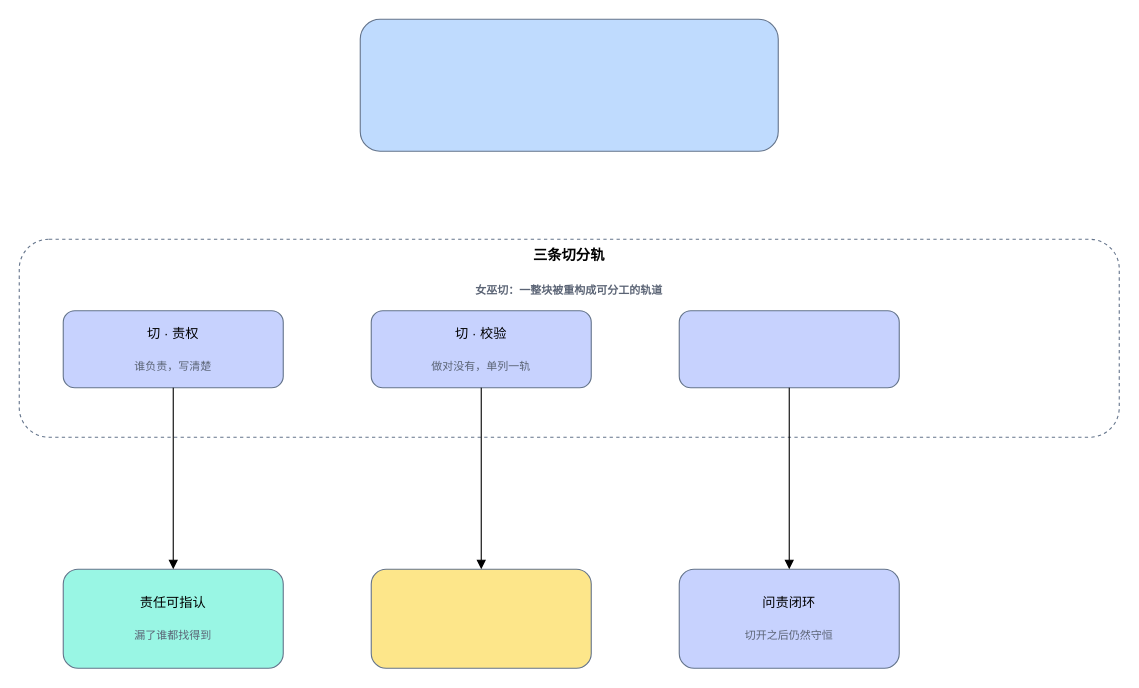
Some shapes in this 1139 by 688 pixel diagram are drawn without their labels. Each missing label, with the centre of its shape:
"一整块判断 输入一次 · 答案一次 · 不可分" belongs at (x=568, y=84).
"切 · 审计 每一步都能回查" belongs at (x=788, y=349).
"复核可信 多一双眼睛验" belongs at (x=480, y=618).
